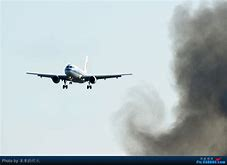smoke: (167, 5, 227, 155)
